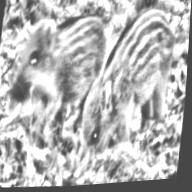boar: (76, 0, 181, 156), (10, 0, 119, 148)
